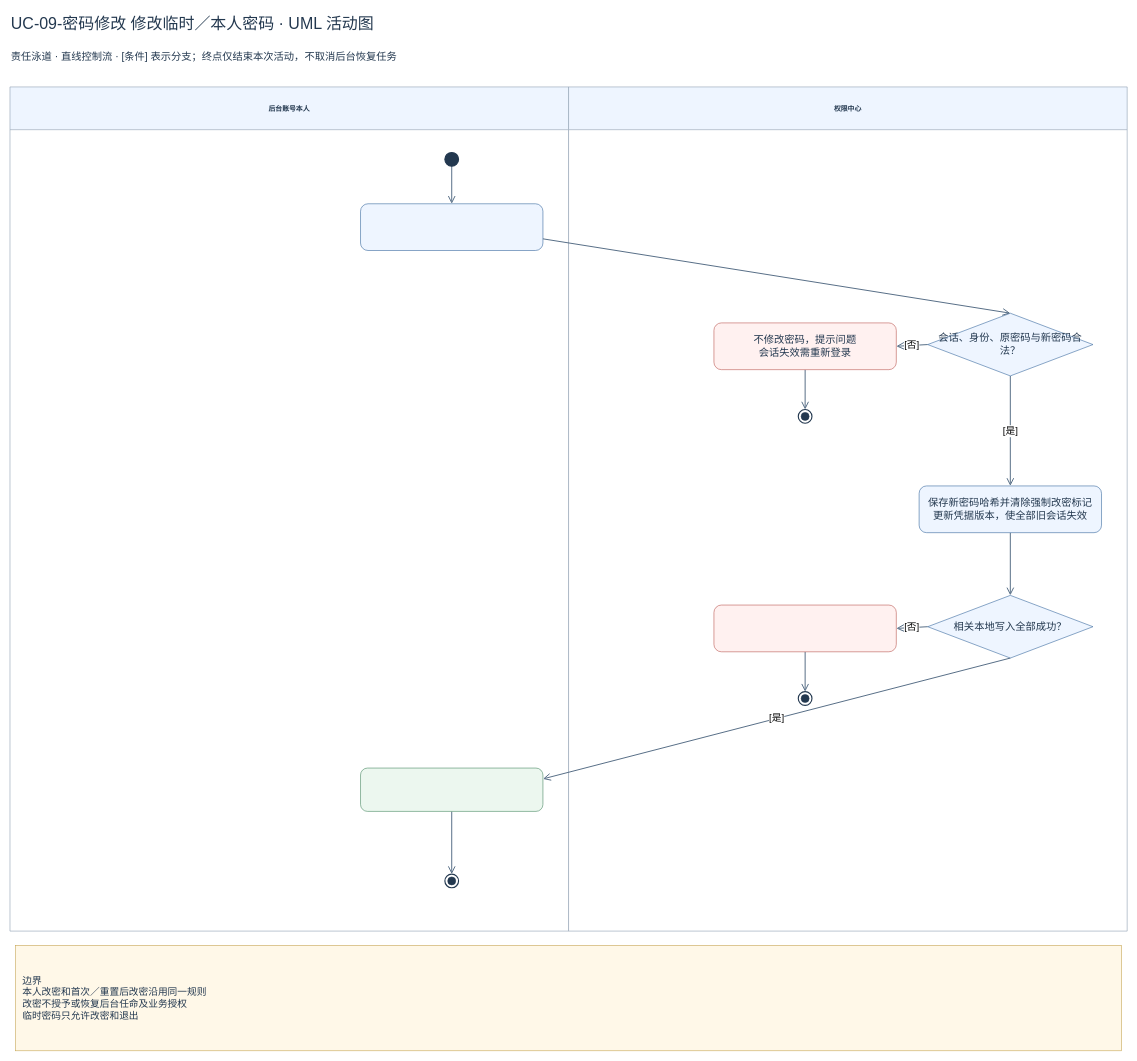
This 1137x1061 diagram has some shape labels left out. The box of each missing label's shape, as (x1, y1, x2, y2) in pixels:
保存失败，不返回成功 本次相关写入回滚: (713, 604, 896, 652)
提交有效会话、当前密码 新密码及确认值: (360, 203, 543, 251)
返回登录页，使用新密码重新登录: (360, 768, 543, 811)
